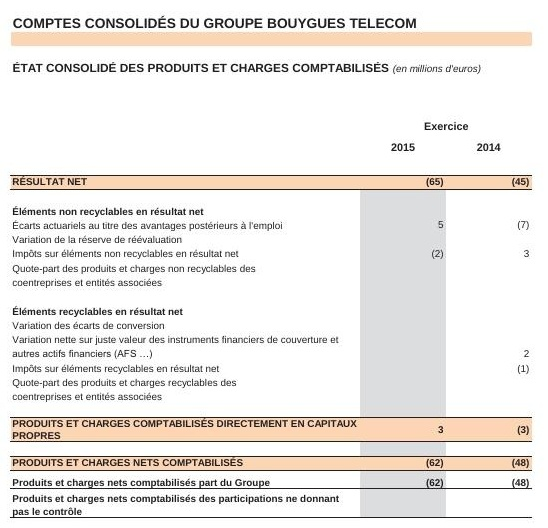table: (0, 0, 548, 528)
